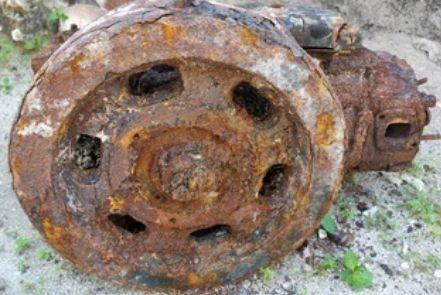metal: (9, 4, 344, 291)
